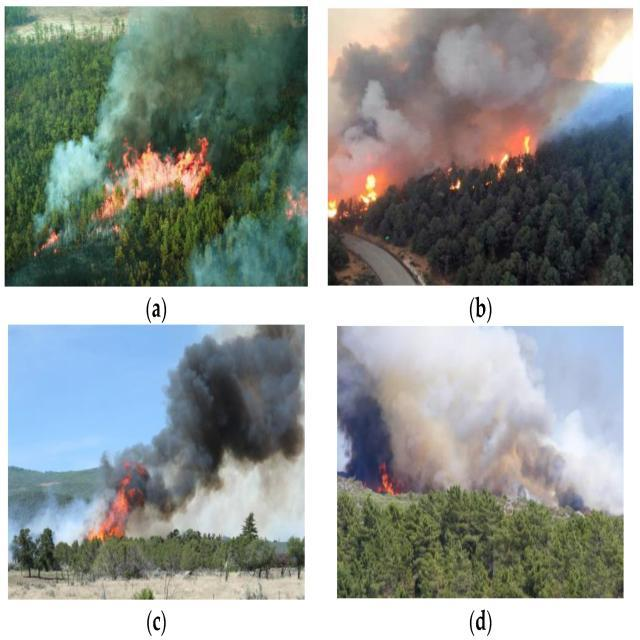Fire: (330, 134, 546, 226), (96, 128, 217, 214), (84, 474, 170, 548), (29, 216, 76, 258), (372, 460, 409, 508)
Smoke: (329, 9, 600, 197), (344, 334, 590, 476), (122, 327, 304, 513), (91, 0, 308, 151), (497, 378, 622, 514), (192, 182, 310, 284), (34, 117, 130, 206)
